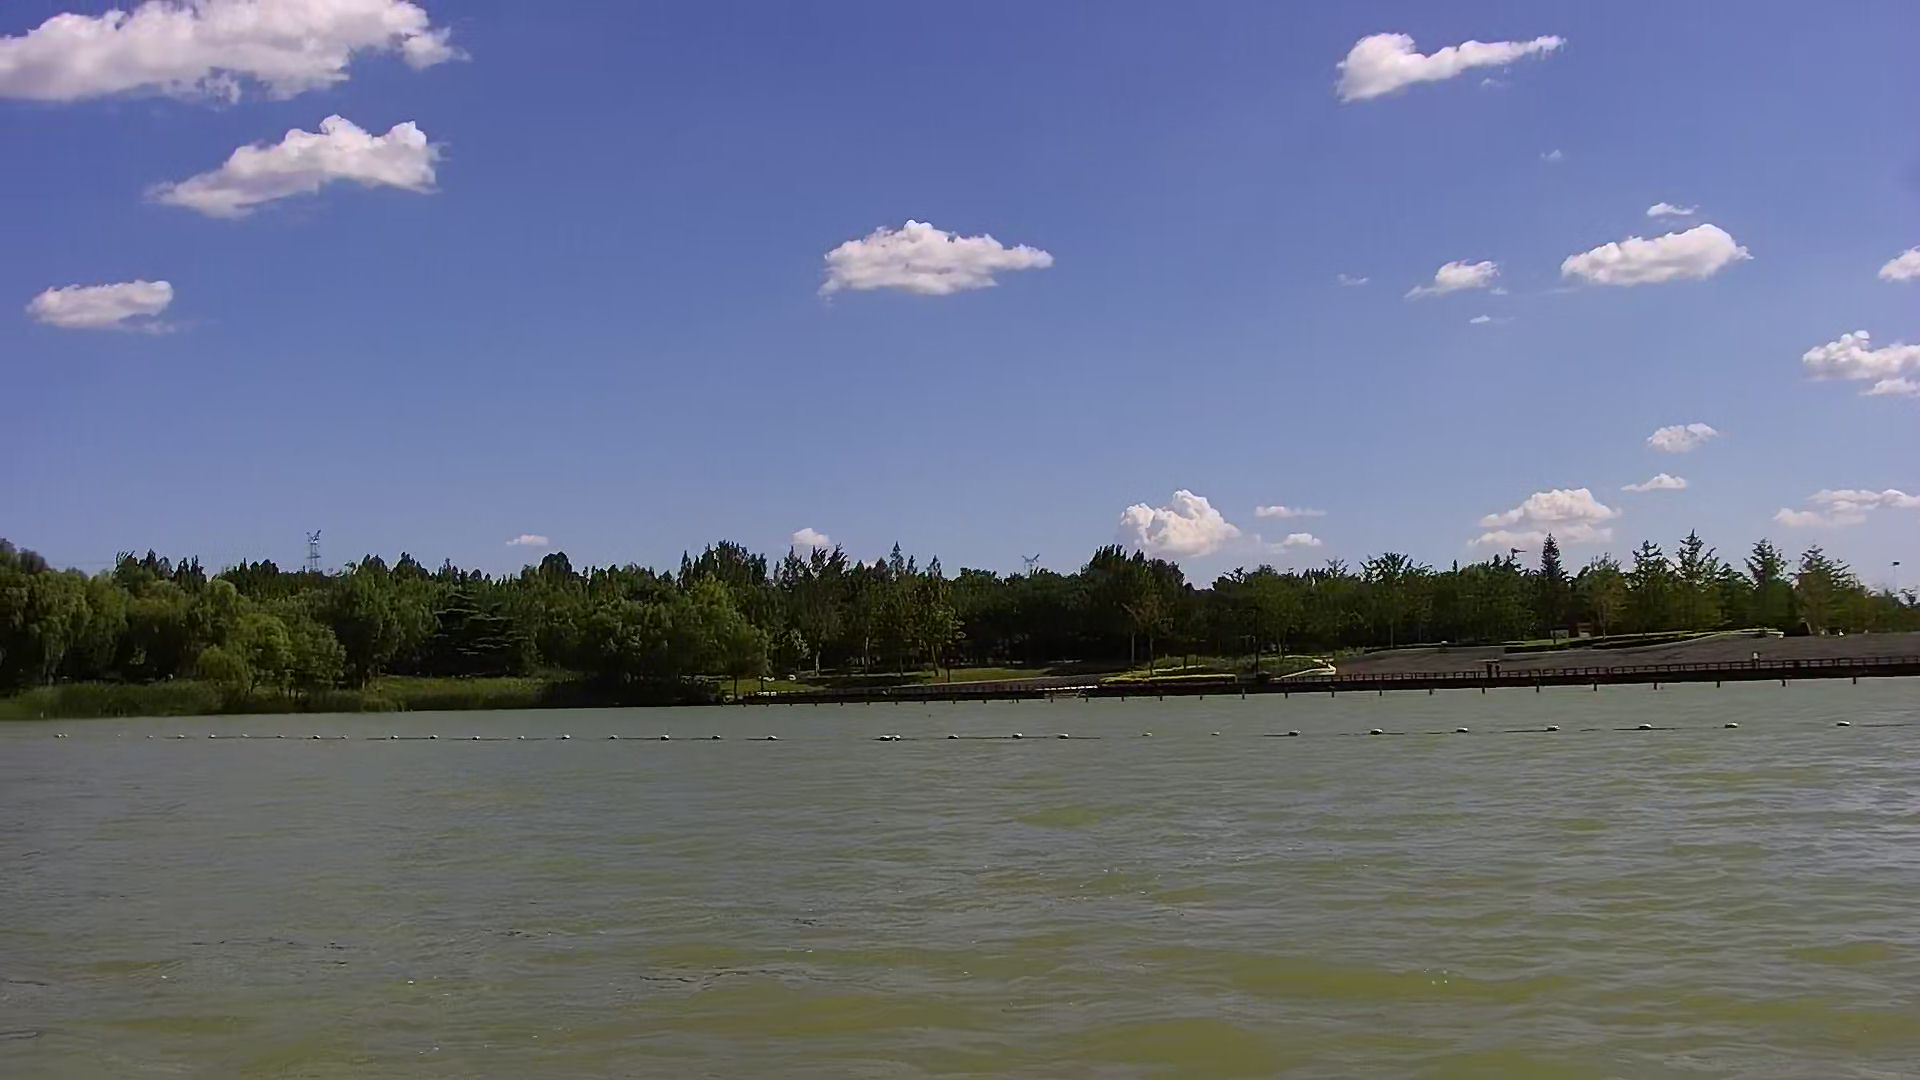ball: (1631, 712, 1663, 738), (1364, 721, 1393, 738), (1721, 717, 1743, 736), (1544, 721, 1563, 738), (1455, 723, 1472, 737)
harbor: (1348, 636, 1920, 692)
